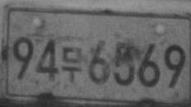4: (34, 38, 58, 81)
5: (113, 41, 135, 85)
6: (87, 40, 111, 85), (137, 43, 160, 86)
9: (163, 43, 186, 88), (12, 36, 34, 78)
무: (62, 46, 83, 82)
